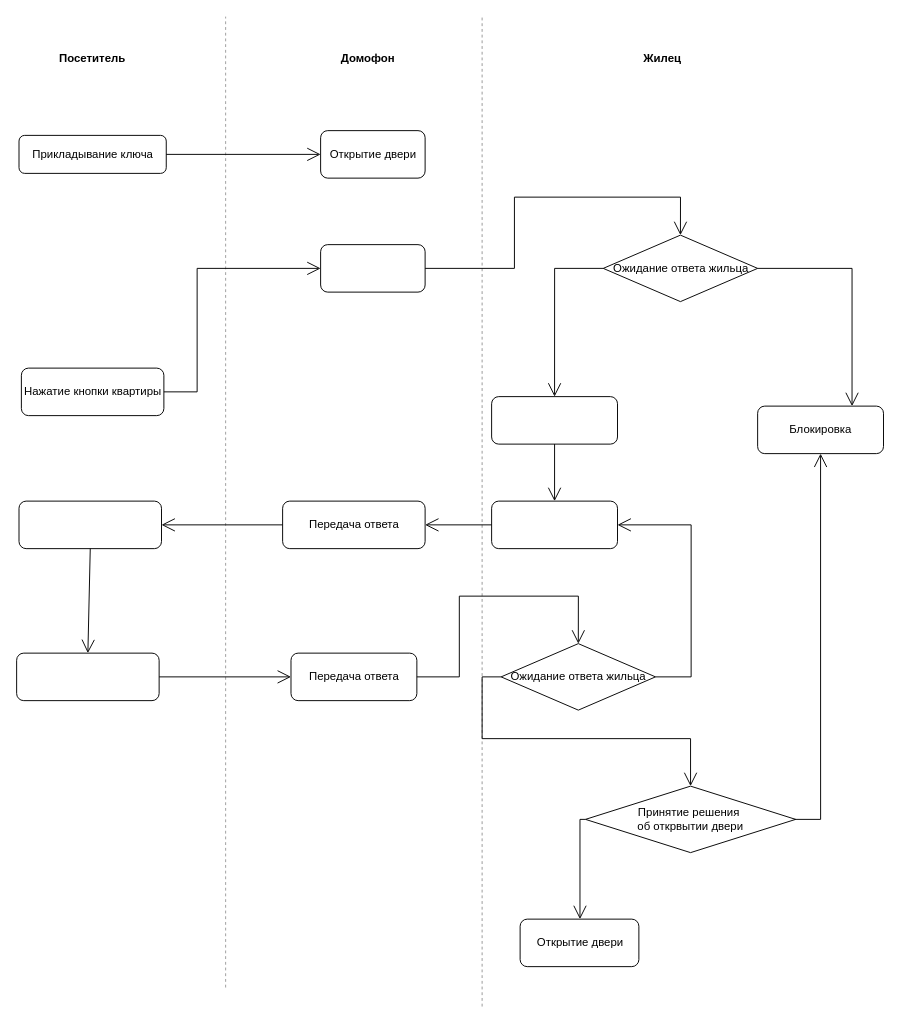
This 901x1024 diagram has some shape labels left out. The box of each missing label's shape, as (x1, y1, x2, y2) in pixels:
Ответ жильца: (491, 500, 618, 549)
Ответ посетителя: (16, 652, 159, 701)
Передача сигнала: (320, 244, 425, 292)
Получение ответа: (18, 500, 162, 549)
Установка связи: (491, 396, 618, 444)
